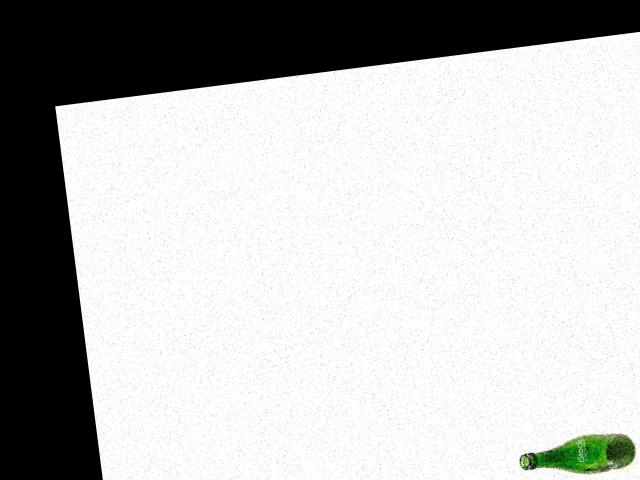beer: (516, 428, 637, 480)
